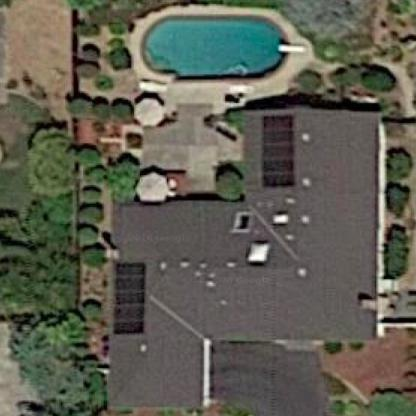solar_panel: (253, 110, 306, 196), (106, 248, 151, 343)
swimming_pool: (117, 3, 307, 93)
